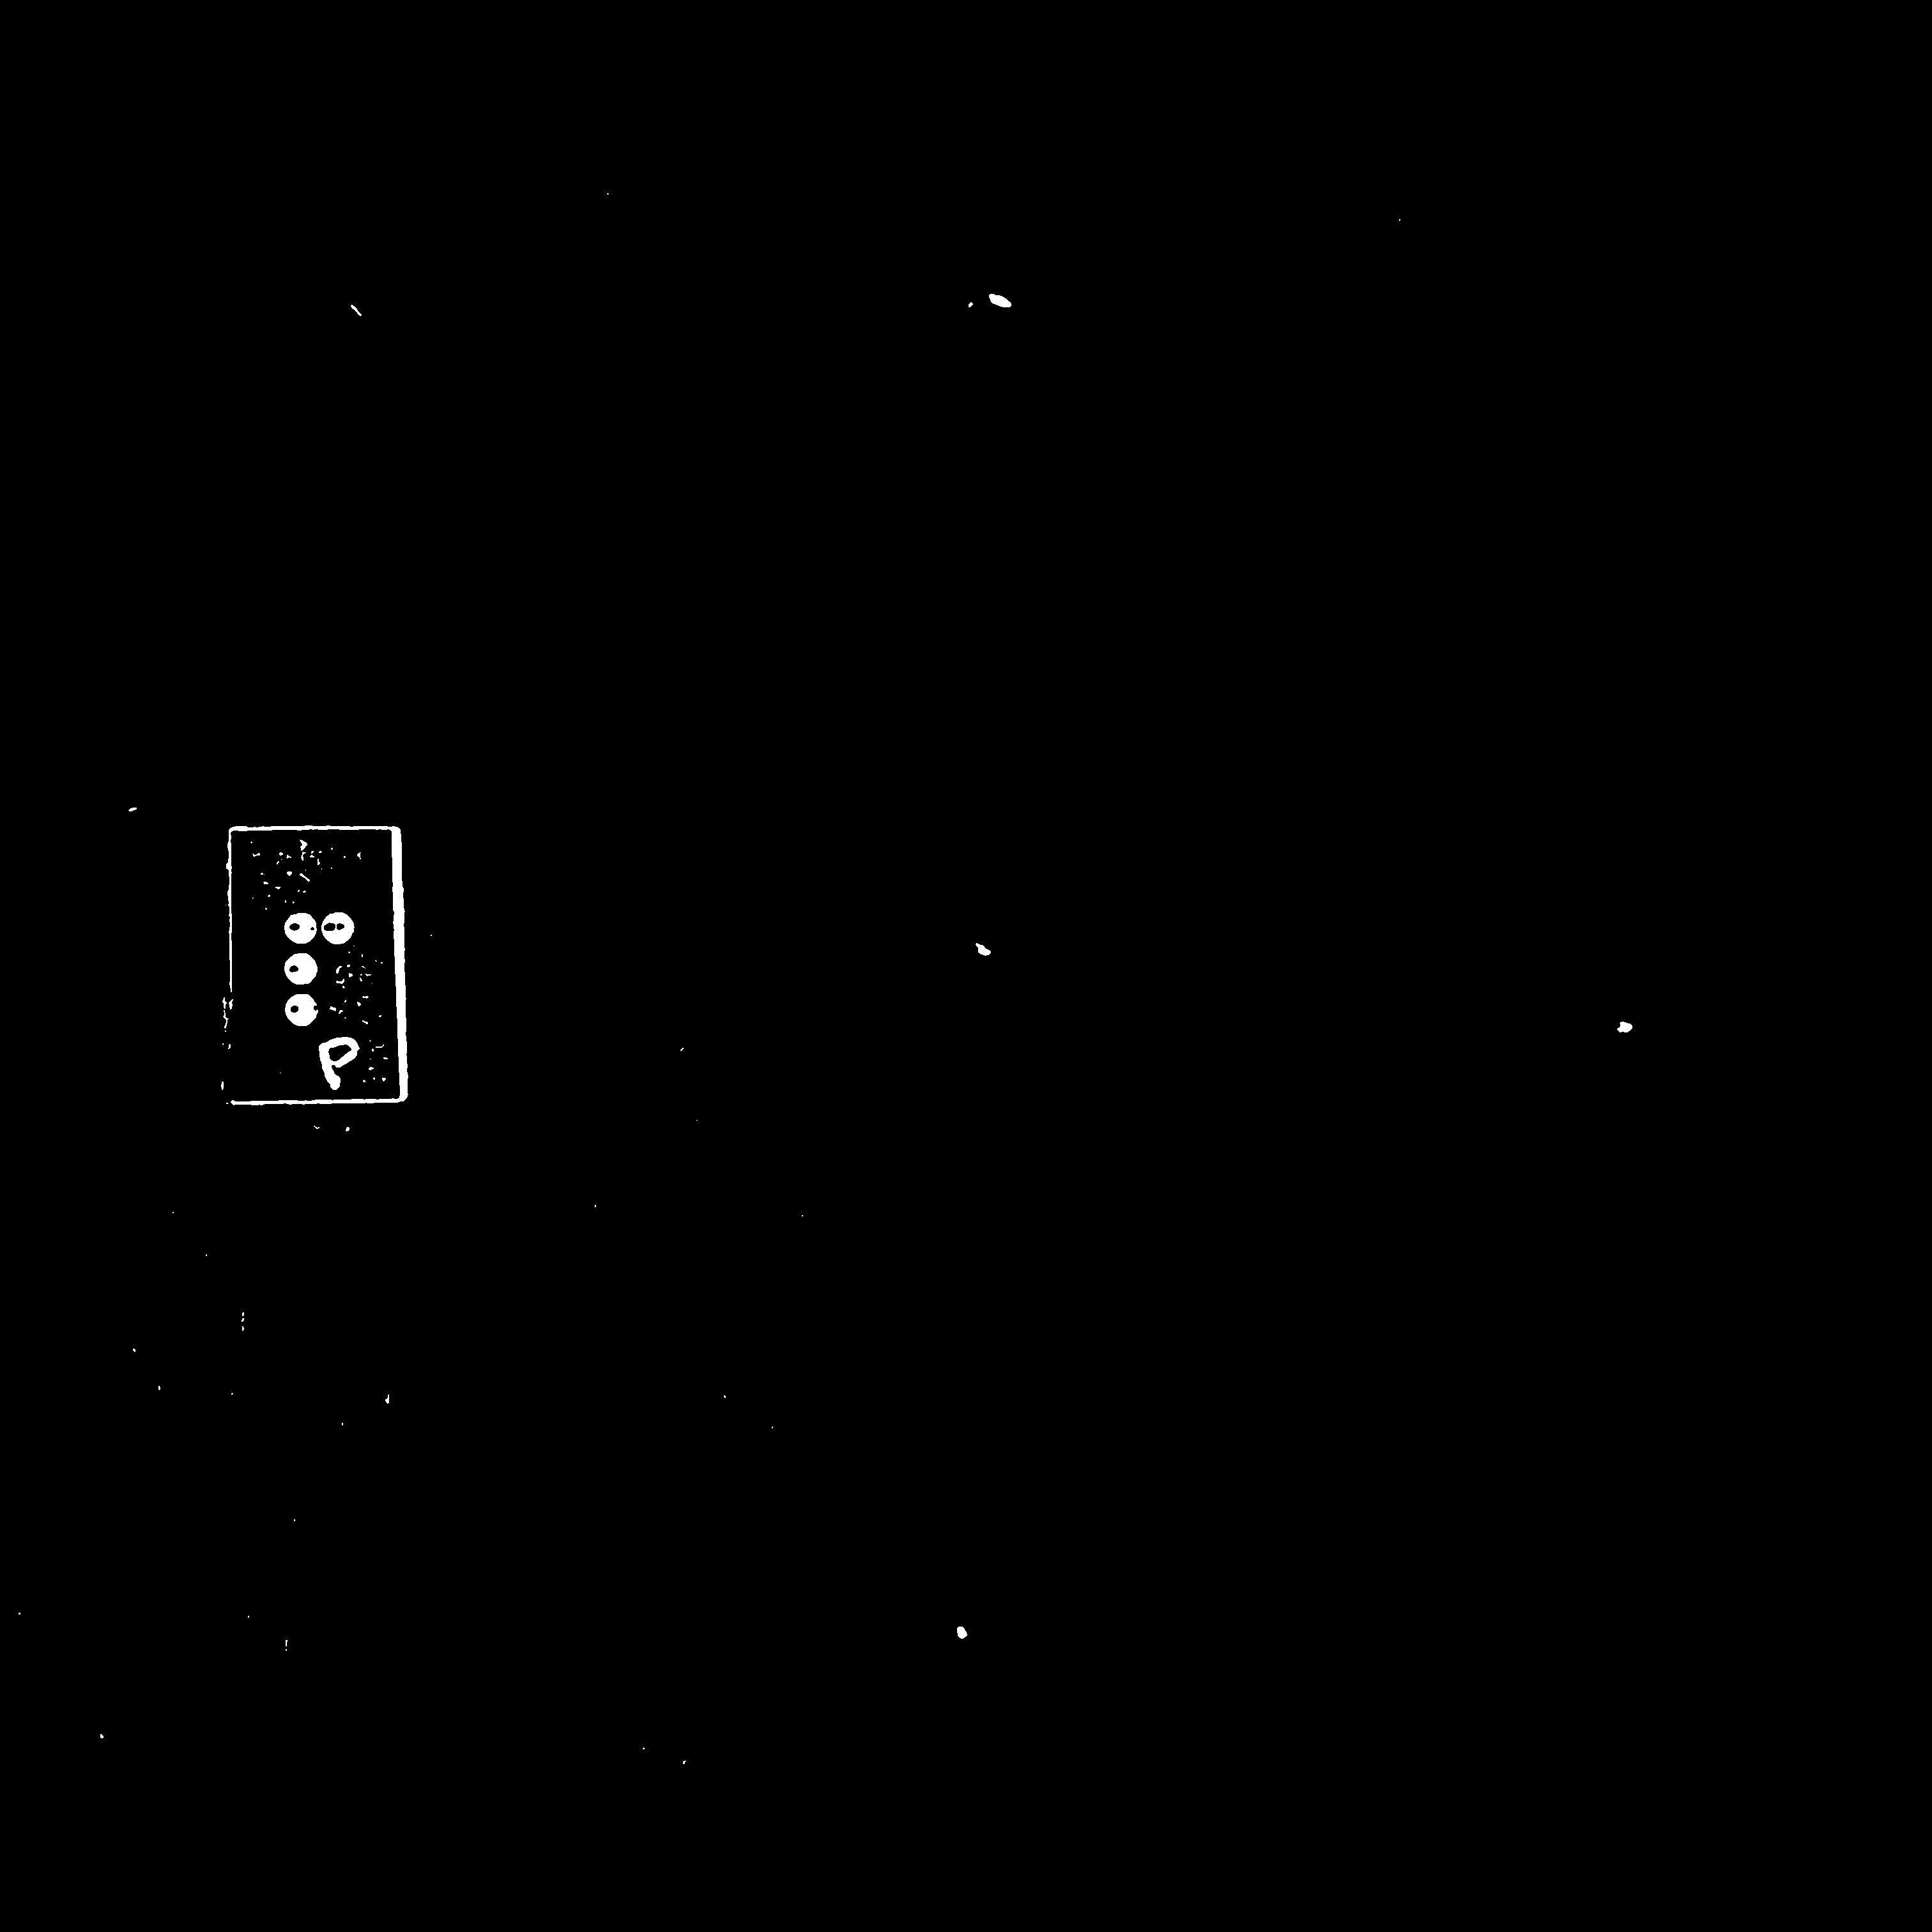p: (270, 894, 372, 1041)
